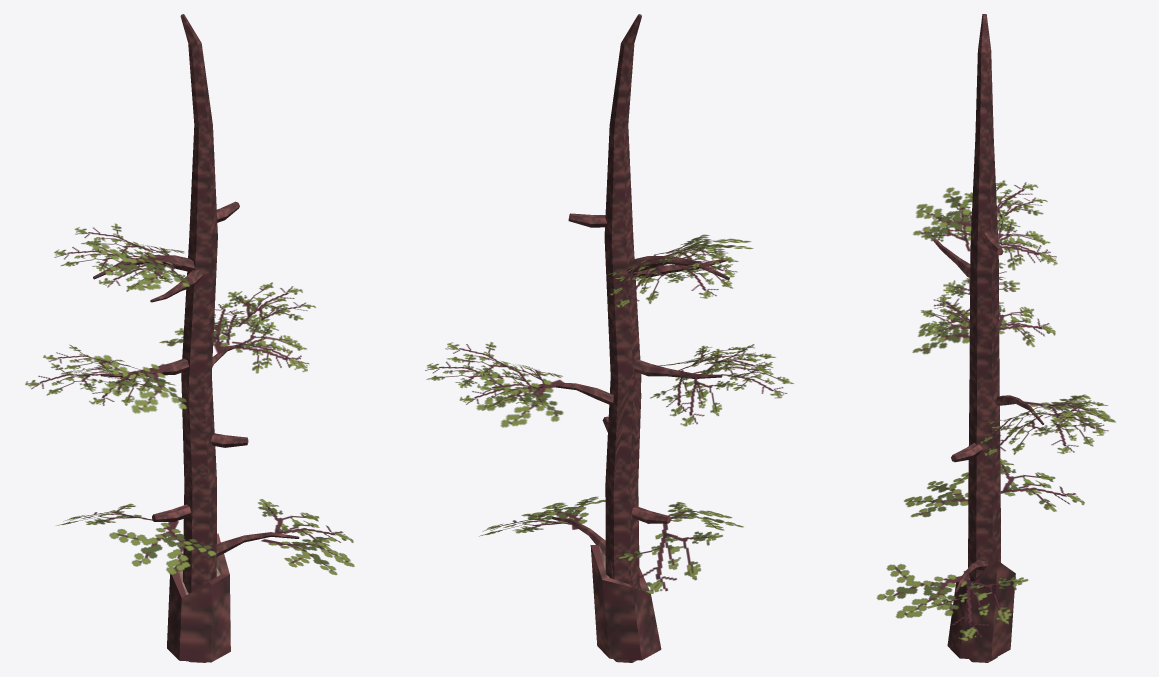
File: tree.glb
The picture shows the model from 3 angles, left to right: view 1: azimuth 30°, elevation 25°; view 2: azimuth 150°, elevation 25°; view 3: azimuth 270°, elevation 25°; orthographic projection.
Parts seen in each view (by area): view 1: tree_01, trunk_04, trunk_01; view 2: tree_01, trunk_04, trunk_01; view 3: tree_01, trunk_04, trunk_01.
Part boxes in pixels (x1,y1,x2,y2): tree_01: (25,14,354,593); trunk_04: (167,533,230,662); trunk_01: (79,372,354,574); tree_01: (425,14,793,593); trunk_04: (590,545,661,660); trunk_01: (493,372,735,593); tree_01: (877,14,1115,640); trunk_04: (947,557,1015,660); trunk_01: (877,459,1084,640).
Size of the model in its own units: 22.26 by 41.77 by 18.21.
Materials: 5 (5 with a texture image).
